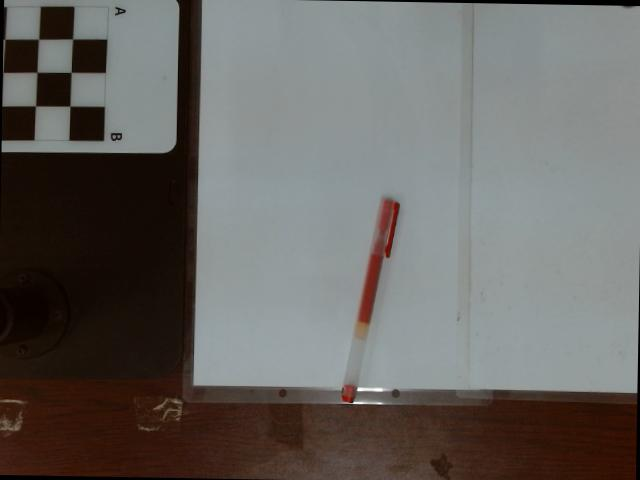PEN: (339, 196, 401, 403)
